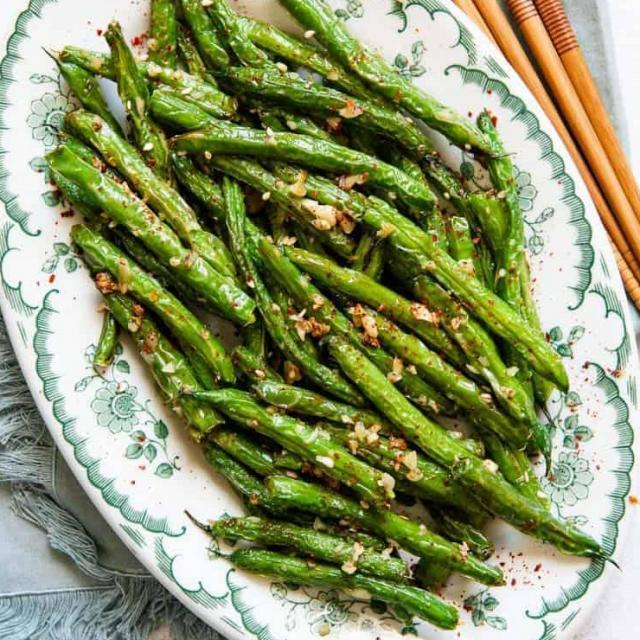Beans: (11, 0, 619, 639)
